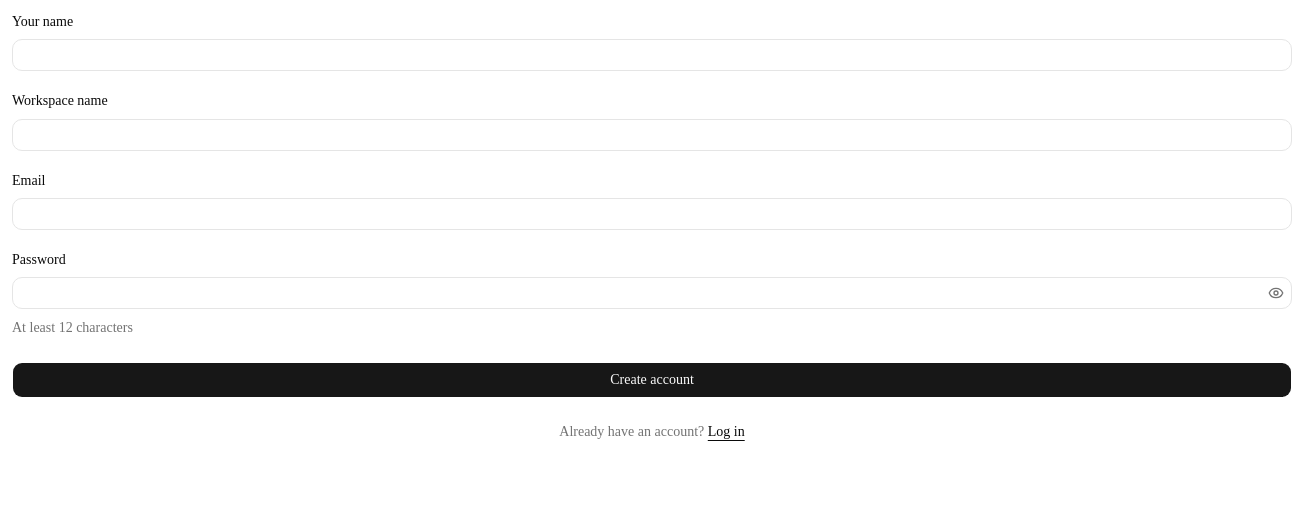
Test: RegisterForm › should show the wait in minutes when registration is rate limited
The image size is (1304, 522).
Type "Ann Lee" into the field labelled "Your name" at [652, 55], box 12,39 -> 1292,71
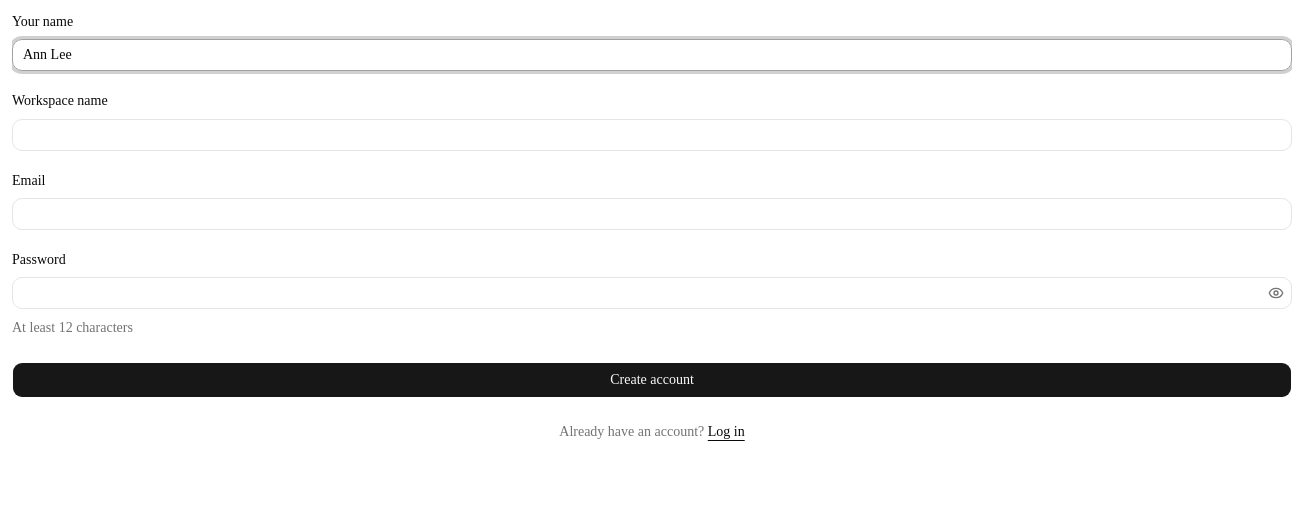
Type "Acme Studio" into the field labelled "Workspace name" at [652, 134], box 12,118 -> 1292,150
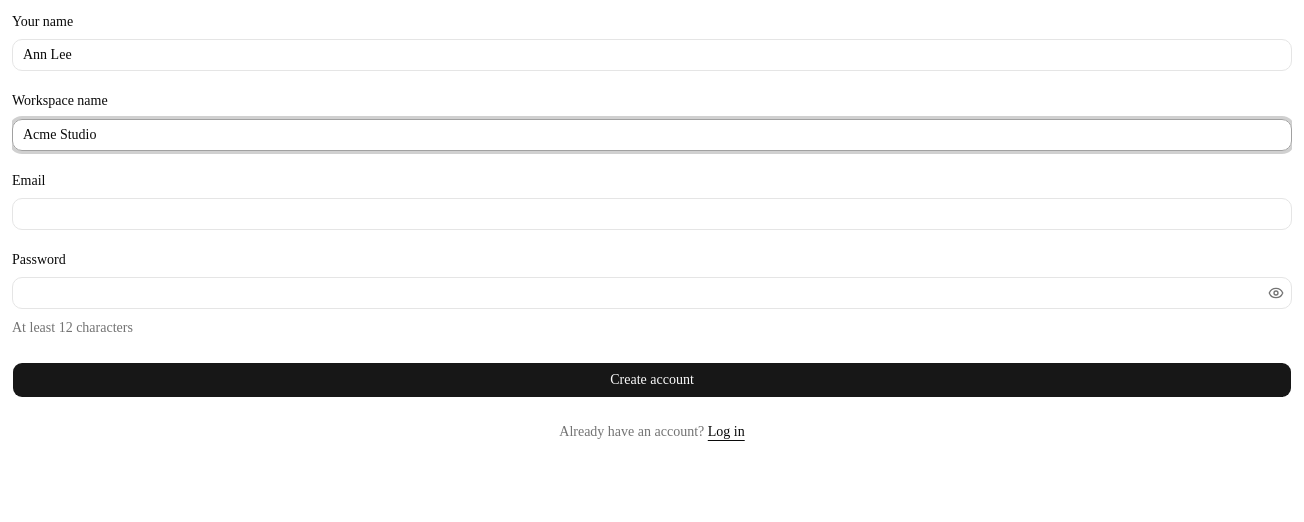
Type "ann@example.com" into the field labelled "Email" at [652, 214], box 12,198 -> 1292,230
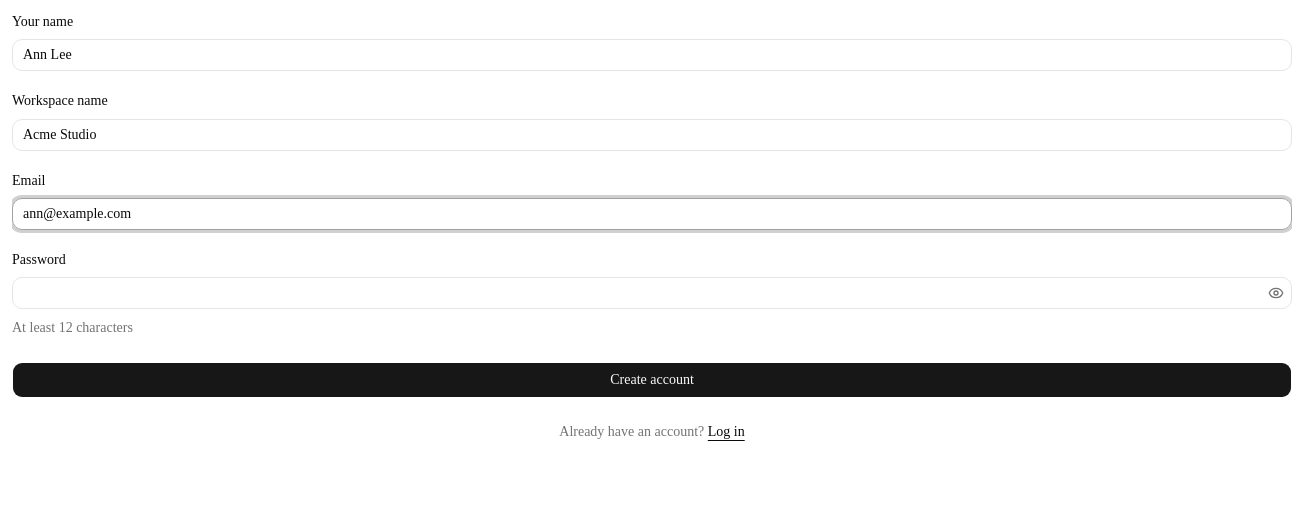
Type "correct horse battery" into the password field labelled "Password" at [638, 293], box 13,277 -> 1264,309
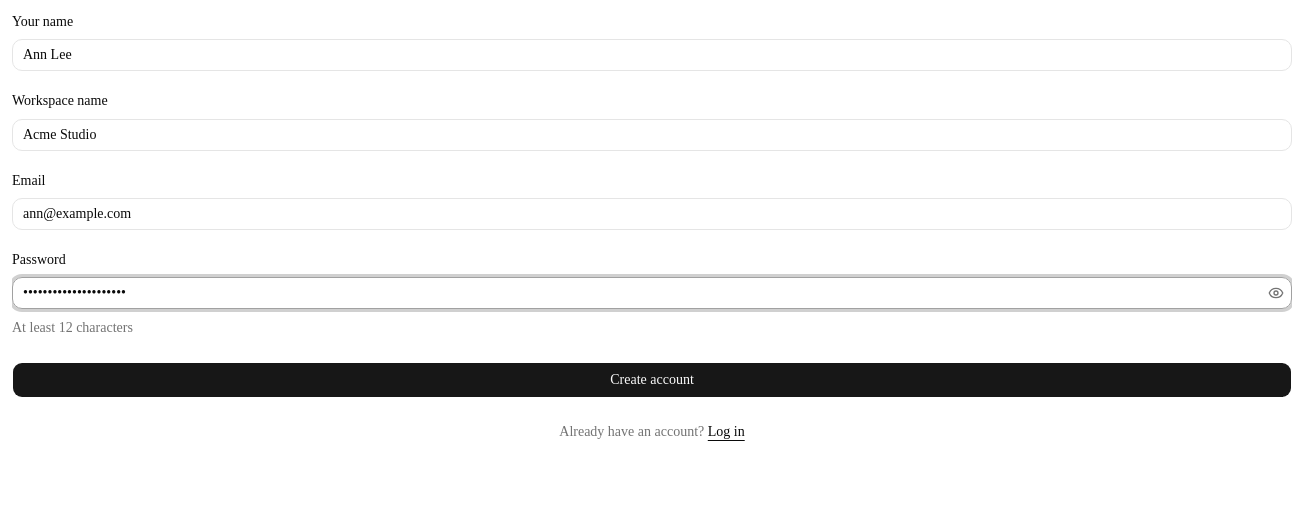
Click the button "Create account" at [652, 380], box 12,362 -> 1292,398
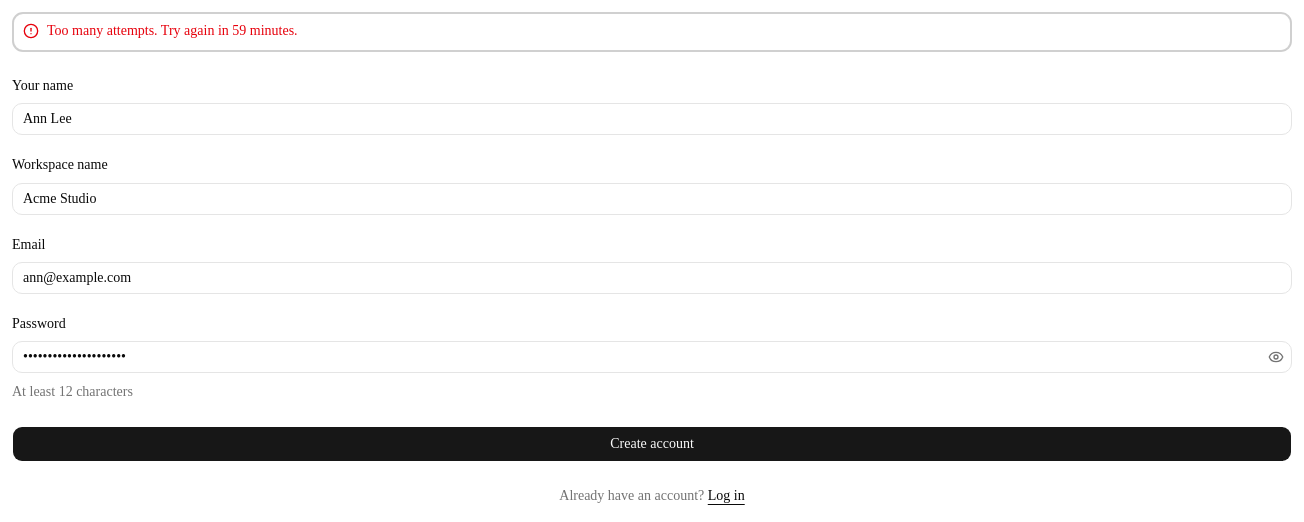
Now the message reads "Too many attempts. Try again in 59 minutes.", box 47,23 -> 298,38
